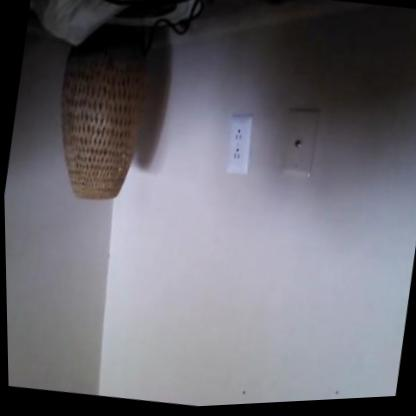OUTLET: (223, 113, 256, 176)
